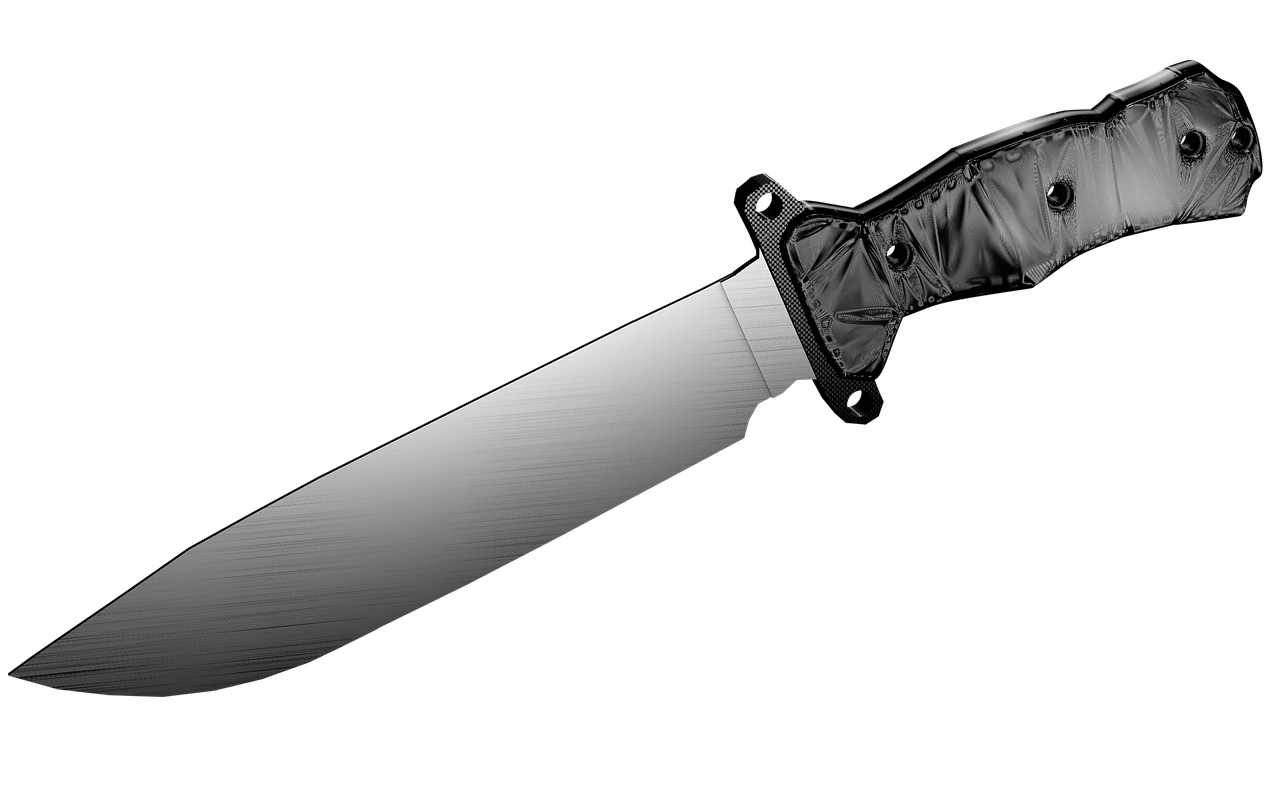knife: (0, 57, 1263, 720)
